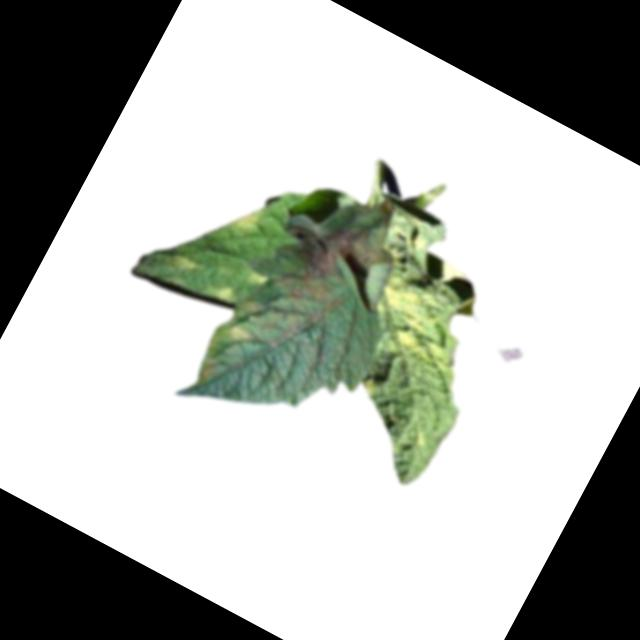Leaf_Mold: (189, 188, 389, 432), (358, 274, 463, 372), (225, 199, 270, 244), (168, 249, 207, 282), (209, 281, 239, 309)
